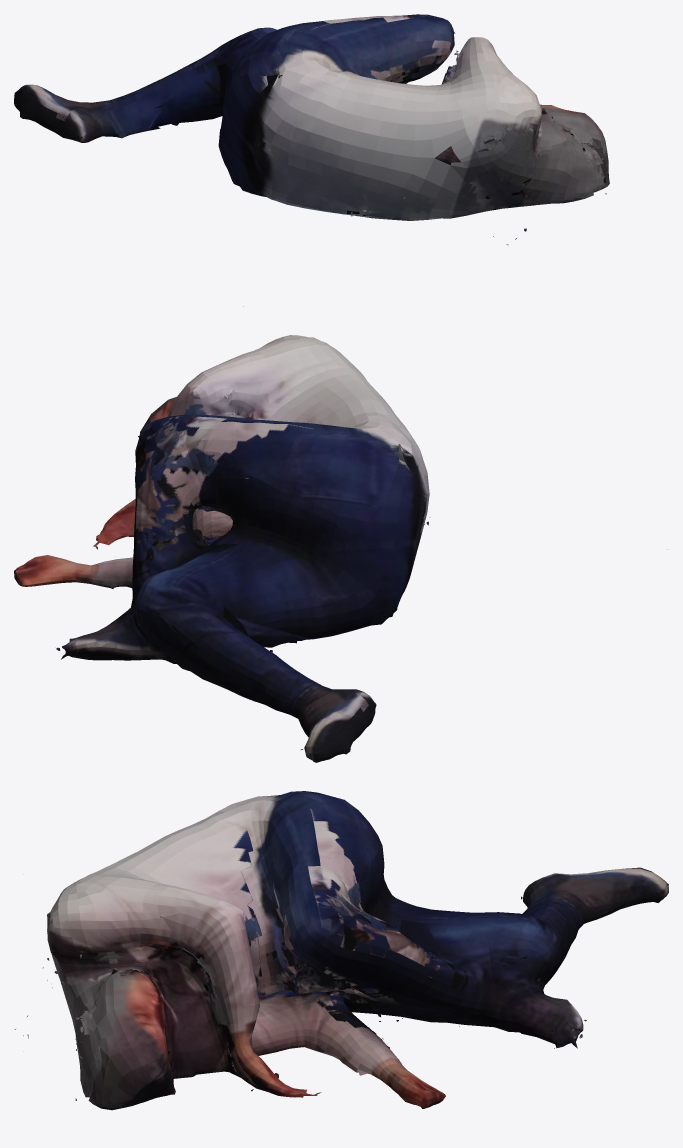
Rendered from AB-death_0000098.obj.
3 views of the same model, one above another, from view 1: azimuth 30°, elevation 25°; view 2: azimuth 150°, elevation 25°; view 3: azimuth 270°, elevation 25° (orthographic). The views are drawn at different scales.
Parts seen in each view (by area): view 1: Retopo_frame_0000098_mesh; view 2: Retopo_frame_0000098_mesh; view 3: Retopo_frame_0000098_mesh.
Boxes of the visible parts, bbox=[...] form: Retopo_frame_0000098_mesh: bbox=[14, 14, 609, 306]; Retopo_frame_0000098_mesh: bbox=[14, 335, 429, 762]; Retopo_frame_0000098_mesh: bbox=[14, 791, 668, 1110].
Size of the model in its own units: 1.15 by 0.3664 by 1.22.
1 material, 1 textured.
